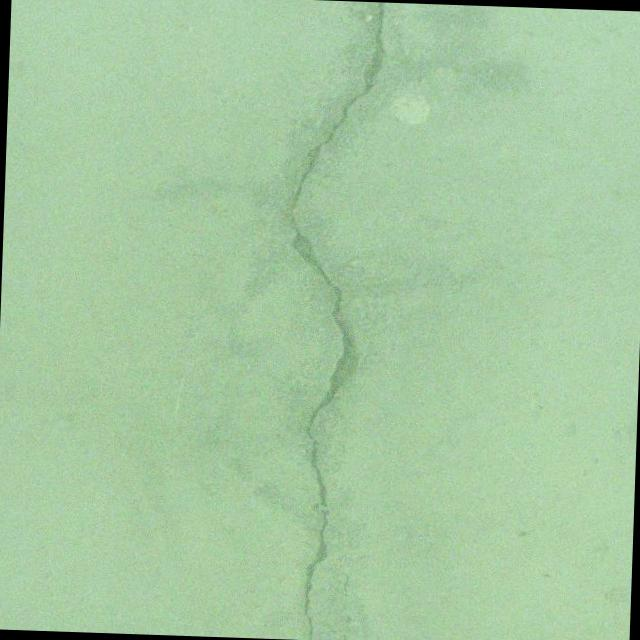crack: (274, 0, 387, 640), (337, 555, 352, 622), (341, 627, 350, 640)
